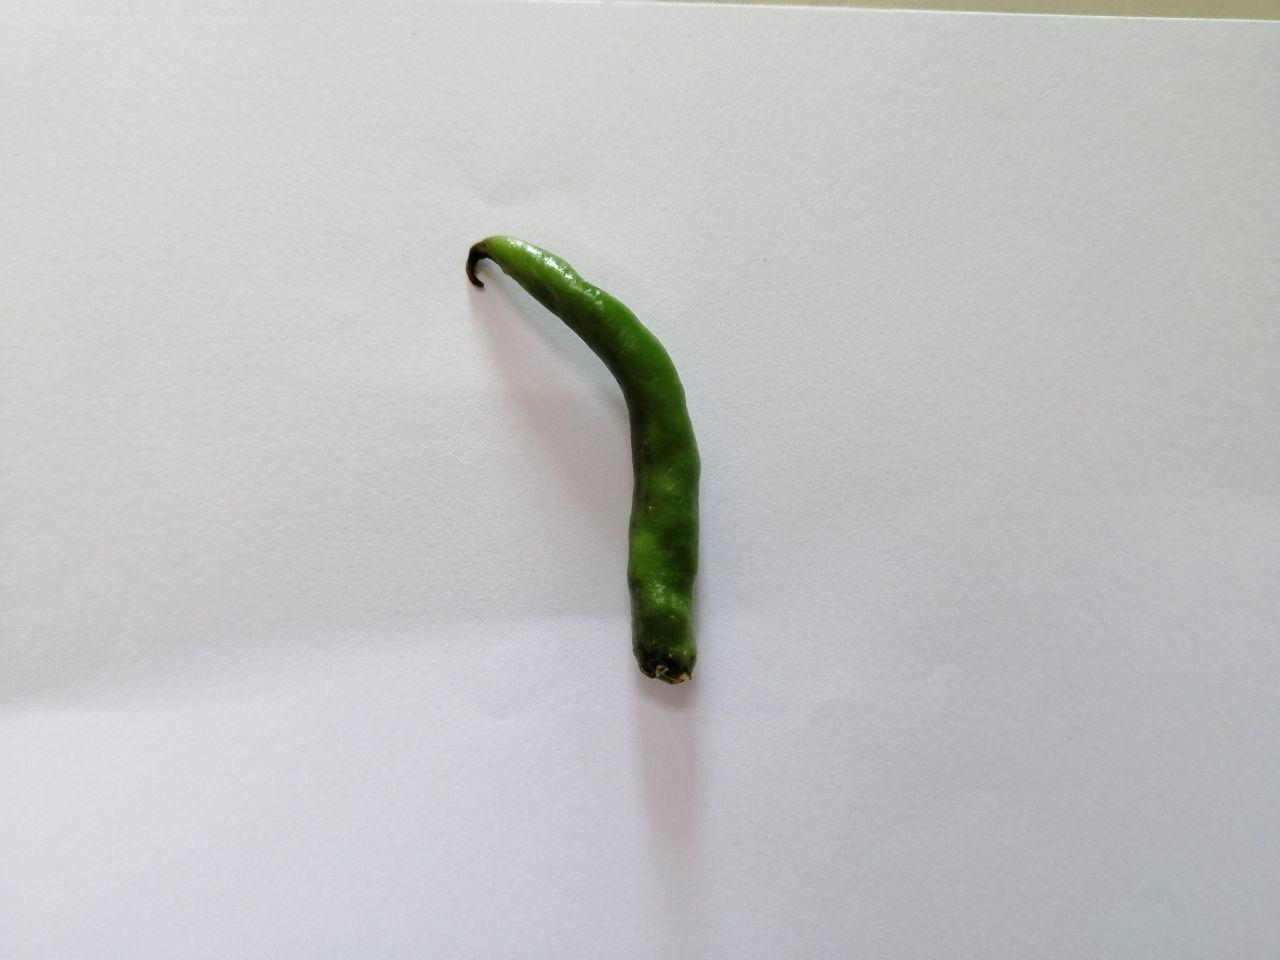lada hijau: (441, 212, 755, 722)
